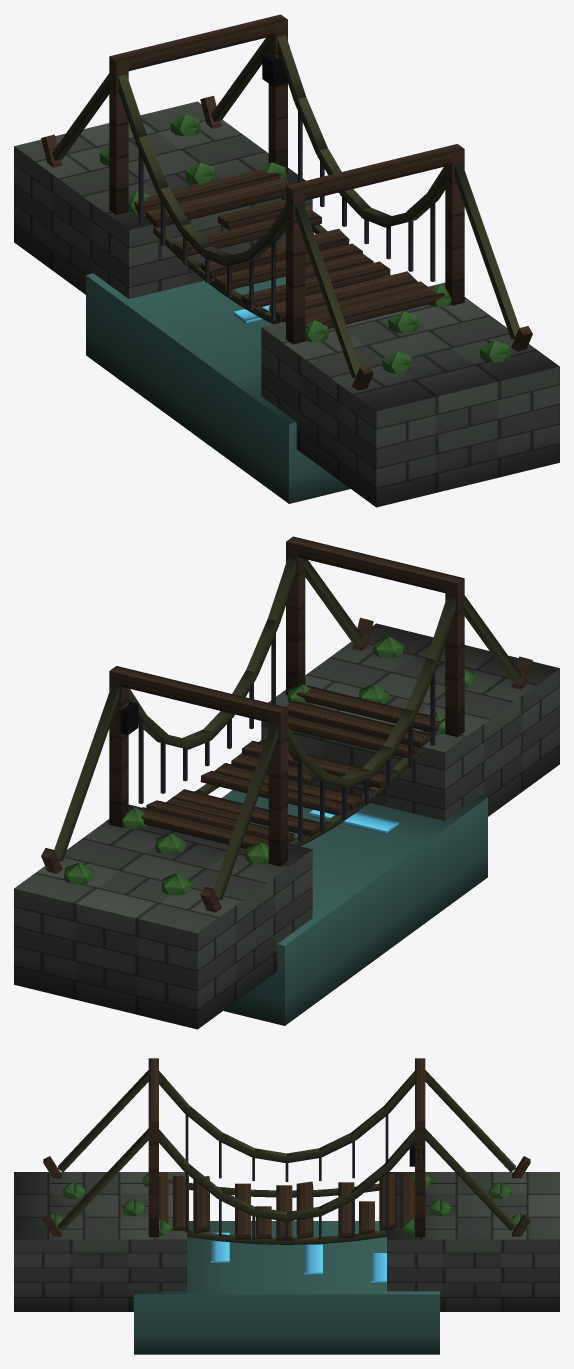
The model's file is foot_bridge.obj.
The picture shows the model from 3 angles, top to bottom: view 1: azimuth 30°, elevation 25°; view 2: azimuth 150°, elevation 25°; view 3: azimuth 270°, elevation 25°; orthographic projection. The views are drawn at different scales.
Visible parts, largest first — view 1: foot_bridge; view 2: foot_bridge; view 3: foot_bridge.
Boxes of the visible parts, x1,y1,x2,y2 form: foot_bridge: (14, 14, 559, 507); foot_bridge: (14, 536, 559, 1029); foot_bridge: (14, 1058, 559, 1354).
Bounding box in the file's own units: 1.3 × 1.89 × 4.1.
1 material, 1 textured.
